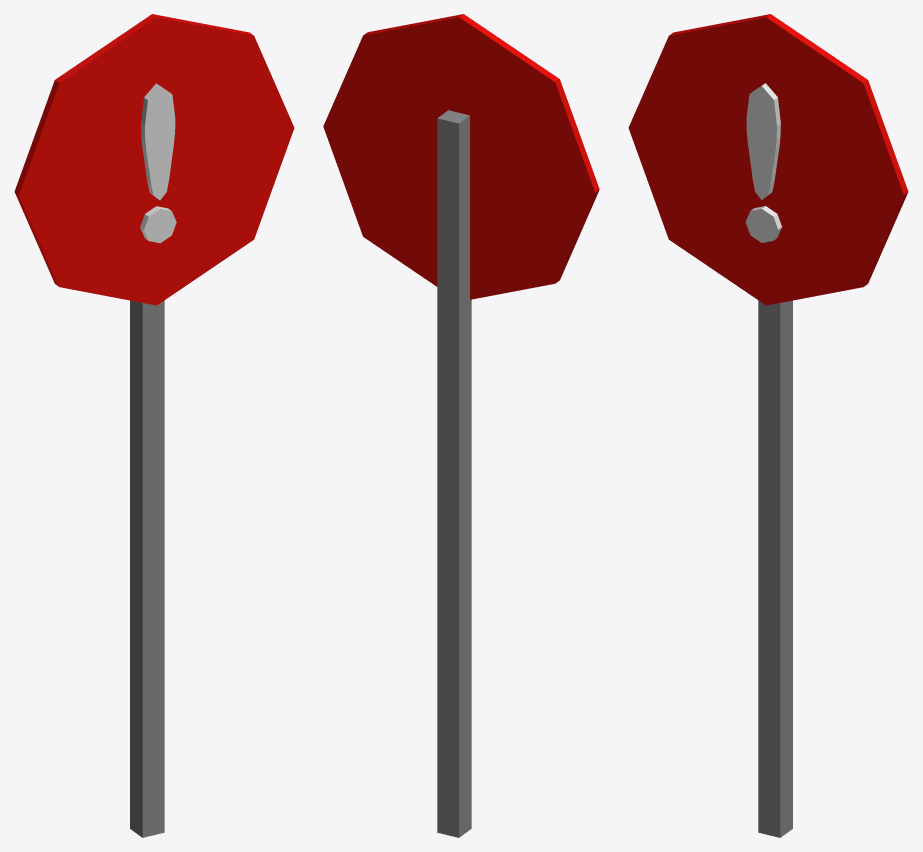
The model's file is panneau_stop.fbx.
3 renders of one model, left to right at view 1: azimuth 30°, elevation 25°; view 2: azimuth 150°, elevation 25°; view 3: azimuth 330°, elevation 25°, orthographic.
Visible parts, largest first — view 1: Panneau_2; view 2: Panneau_2; view 3: Panneau_2.
Part boxes in pixels (bbox=[...]): Panneau_2: bbox=[14, 14, 294, 837]; Panneau_2: bbox=[323, 14, 599, 837]; Panneau_2: bbox=[628, 14, 908, 837].
Size of the model in its own units: 137 by 390 by 17.04.
